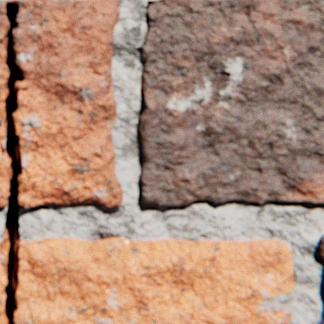brick: (138, 0, 323, 205), (315, 234, 323, 259), (318, 310, 323, 323), (321, 267, 323, 296)
broken_brick: (0, 0, 122, 206), (14, 237, 293, 323), (0, 255, 7, 323)
crack: (0, 2, 24, 323)
